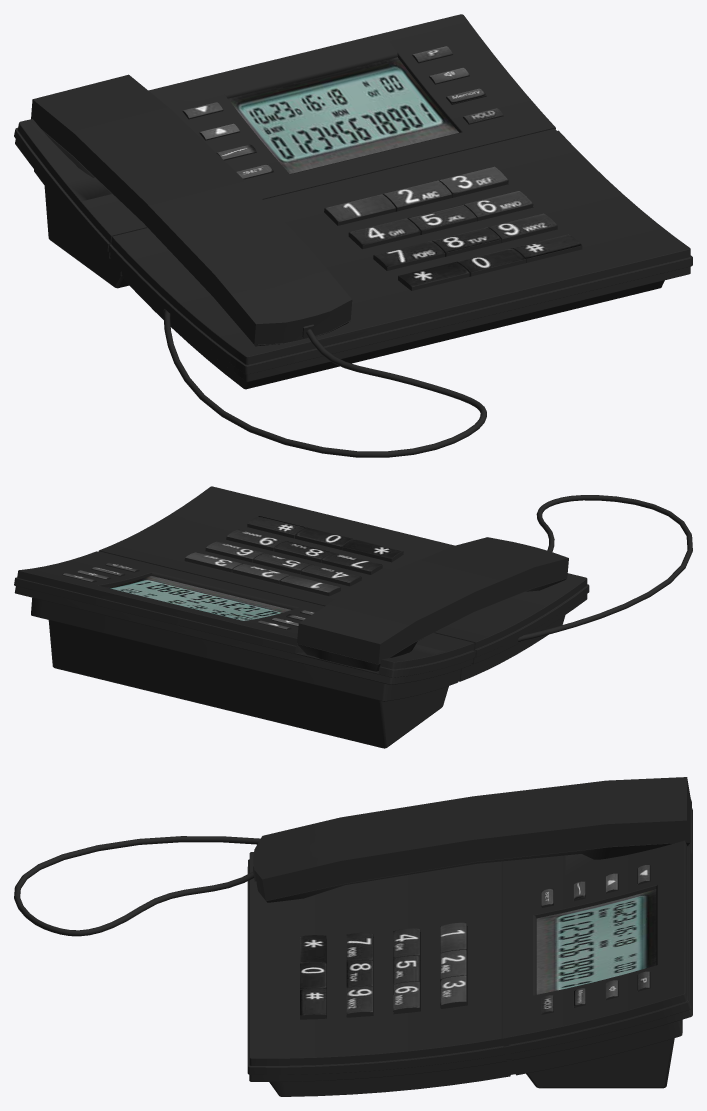
Rendered from landline phone.fbx.
3 views of the same model, one above another, from view 1: azimuth 30°, elevation 25°; view 2: azimuth 150°, elevation 25°; view 3: azimuth 270°, elevation 25° (orthographic). The views are drawn at different scales.
Visible parts, largest first — view 1: Telephone; view 2: Telephone; view 3: Telephone.
Part boxes in pixels (left/top/right/bottom): Telephone: left=14, top=14, right=692, bottom=457; Telephone: left=14, top=486, right=692, bottom=748; Telephone: left=14, top=777, right=692, bottom=1096.
Size of the model in its own units: 23.29 by 5.89 by 28.25.
1 material, 1 textured.
